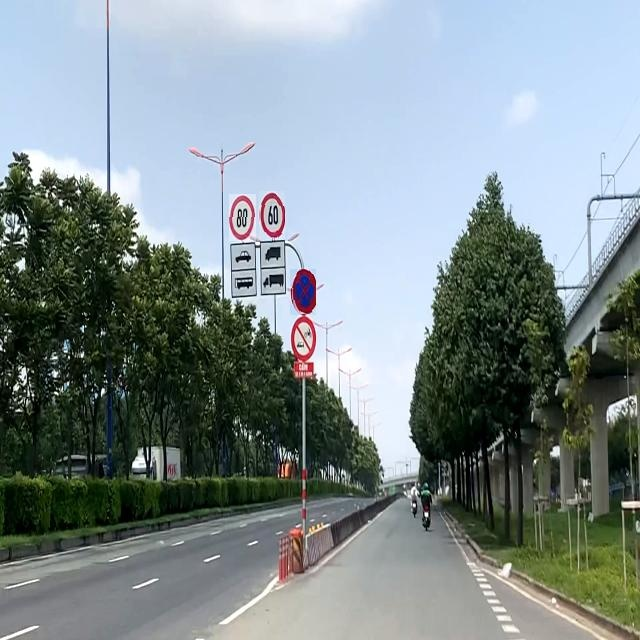bien_cam: (229, 194, 256, 241), (259, 191, 285, 238), (290, 269, 316, 315)
